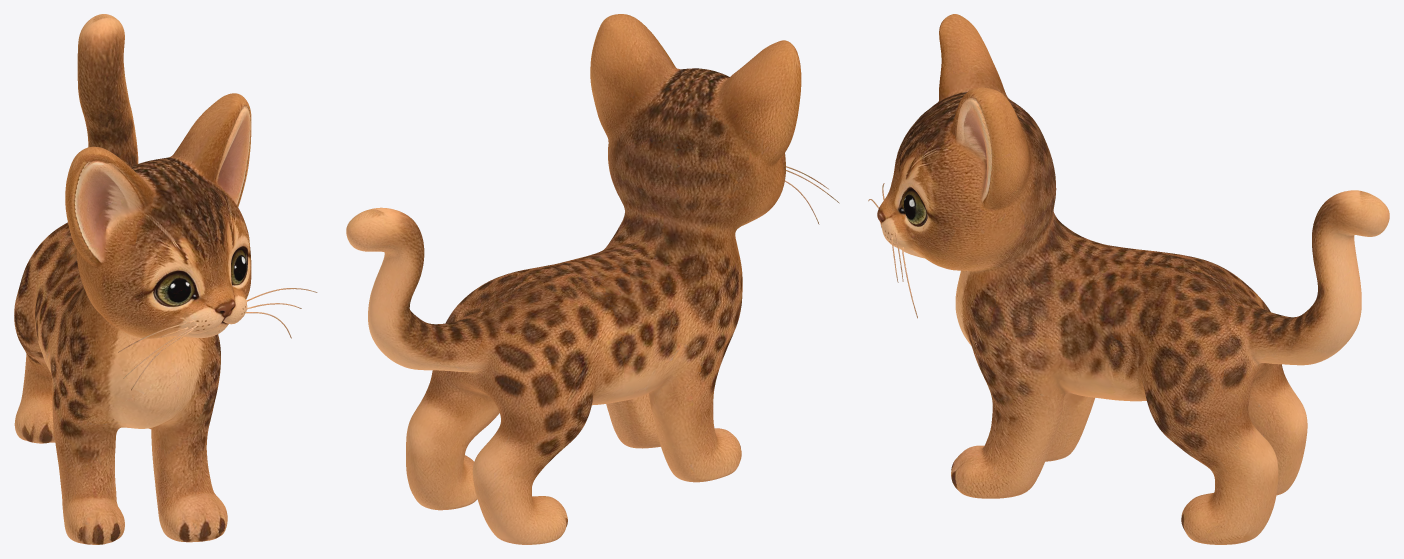
The model's file is meshy-bengal.glb.
3 renders of one model, left to right at view 1: azimuth 30°, elevation 25°; view 2: azimuth 150°, elevation 25°; view 3: azimuth 270°, elevation 25°, orthographic. The views are drawn at different scales.
Visible parts, largest first — view 1: Mesh_0; view 2: Mesh_0; view 3: Mesh_0.
Part boxes in pixels (x1,y1,x2,y2): Mesh_0: [14, 14, 317, 544]; Mesh_0: [346, 14, 839, 544]; Mesh_0: [868, 14, 1389, 544].
Bounding box in the file's own units: 1.08 × 1.68 × 1.9.
1 material, 1 textured.
